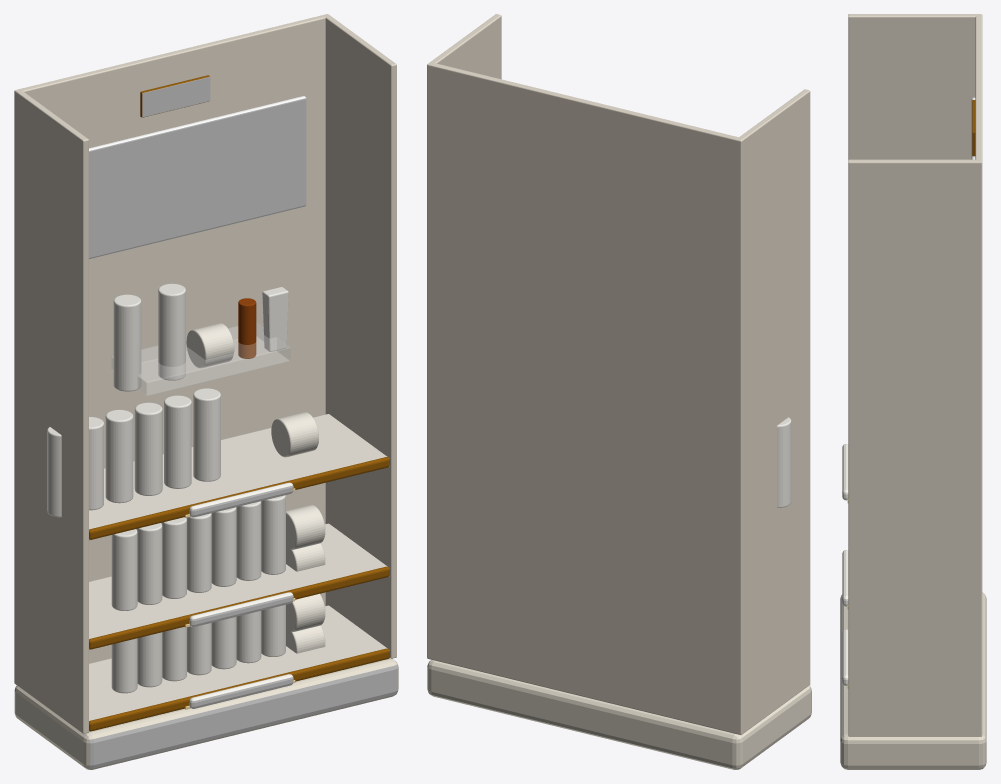
Rendered from dove_rack.obj.
3 views of the same model, side by side, from view 1: azimuth 30°, elevation 25°; view 2: azimuth 150°, elevation 25°; view 3: azimuth 270°, elevation 25° (orthographic). The views are drawn at different scales.
Visible parts, largest first — view 1: back.panel, side.panel_1, side.panel_2, header.graphic, base.plinth, shelf.deck_3, shelf.deck_2, shelf.deck.low, acrylic.riser, product.pump.top_1, product.pump.top_2, product.pump.mid_3 (+34 smaller); view 2: back.panel, side.panel_1, base.plinth, side.panel_2, product.pump.mid_1; view 3: side.panel_2, side.panel_1, base.plinth, back.panel, shelf.talker.low, shelf.talker_2, shelf.talker_3.
Boxes of the visible parts, box(x1,y1,x2,y2) form: back.panel: box(14, 14, 329, 684); side.panel_1: box(16, 90, 88, 733); side.panel_2: box(325, 15, 396, 658); header.graphic: box(89, 96, 306, 258); base.plinth: box(14, 658, 398, 769); shelf.deck_3: box(89, 414, 389, 540); shelf.deck_2: box(89, 523, 389, 649); shelf.deck.low: box(89, 605, 389, 731); acrylic.riser: box(111, 323, 290, 395); product.pump.top_1: box(113, 294, 141, 391); product.pump.top_2: box(158, 283, 185, 380); product.pump.mid_3: box(105, 409, 133, 503); back.panel: box(427, 62, 744, 734); side.panel_1: box(739, 89, 810, 732); base.plinth: box(427, 660, 811, 769); side.panel_2: box(430, 14, 501, 79); product.pump.mid_1: box(777, 417, 791, 507); side.panel_2: box(848, 159, 977, 736); side.panel_1: box(848, 14, 976, 159); base.plinth: box(840, 592, 986, 769); back.panel: box(975, 14, 982, 736); shelf.talker.low: box(842, 629, 848, 685); shelf.talker_2: box(842, 550, 848, 606); shelf.talker_3: box(842, 444, 848, 500).
Size of the model in its own units: 0.9333 by 1.75 by 0.381.
